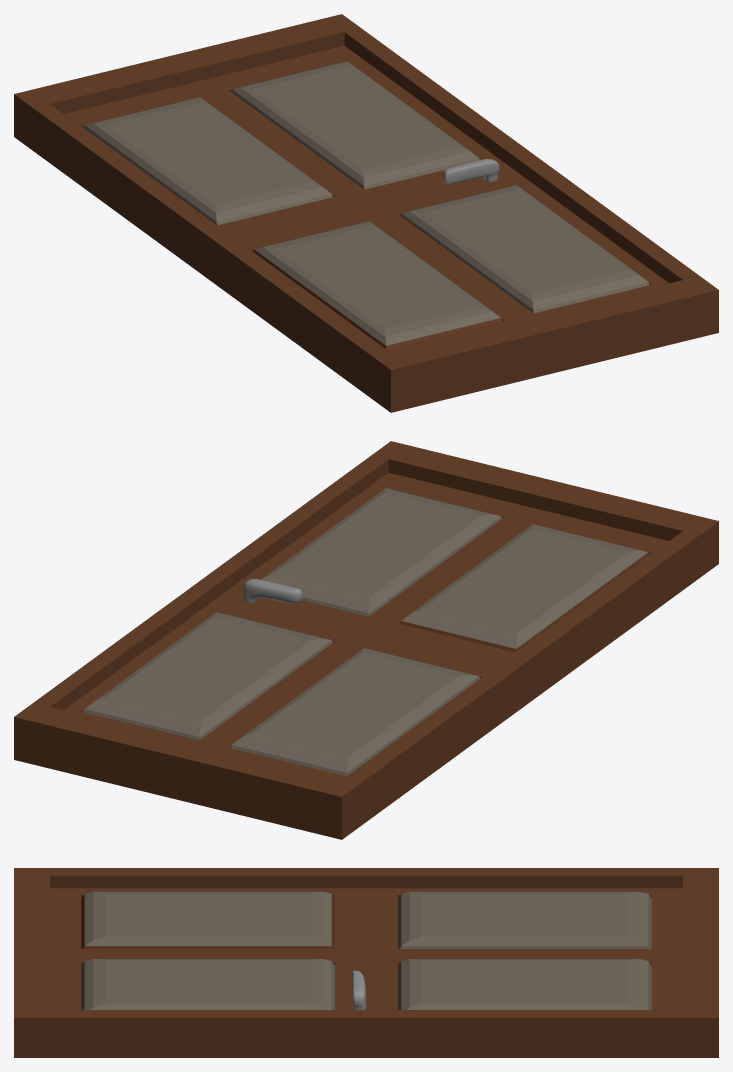
Rendered from kapi.fbx.
3 views of the same model, one above another, from view 1: azimuth 30°, elevation 25°; view 2: azimuth 150°, elevation 25°; view 3: azimuth 270°, elevation 25° (orthographic). The views are drawn at different scales.
Visible parts, largest first — view 1: Plane, Cube; view 2: Plane, Cube; view 3: Plane, Cube.
Part boxes in pixels (<box>): Plane: <box>14,14,718,412</box>; Cube: <box>443,159,499,184</box>; Plane: <box>14,441,718,839</box>; Cube: <box>243,578,302,603</box>; Plane: <box>14,868,718,1057</box>; Cube: <box>352,970,365,1009</box>.
Size of the model in its own units: 200 by 29.26 by 398.
